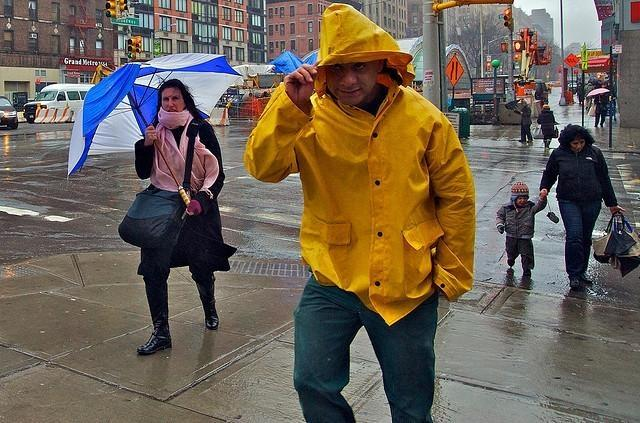car: (0, 96, 20, 129), (532, 80, 550, 105), (568, 82, 578, 95), (548, 80, 556, 87), (545, 82, 552, 90)
